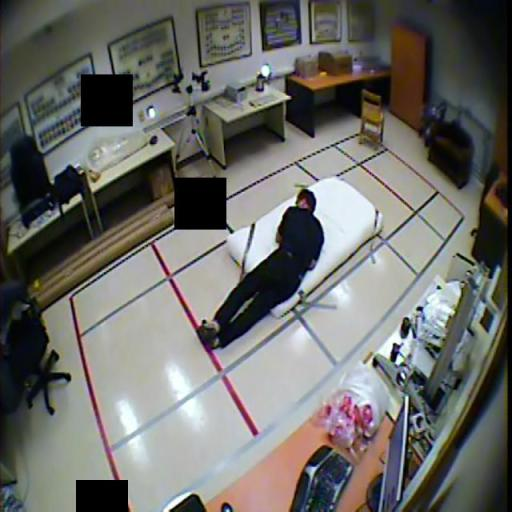Fall: (198, 188, 324, 350)
